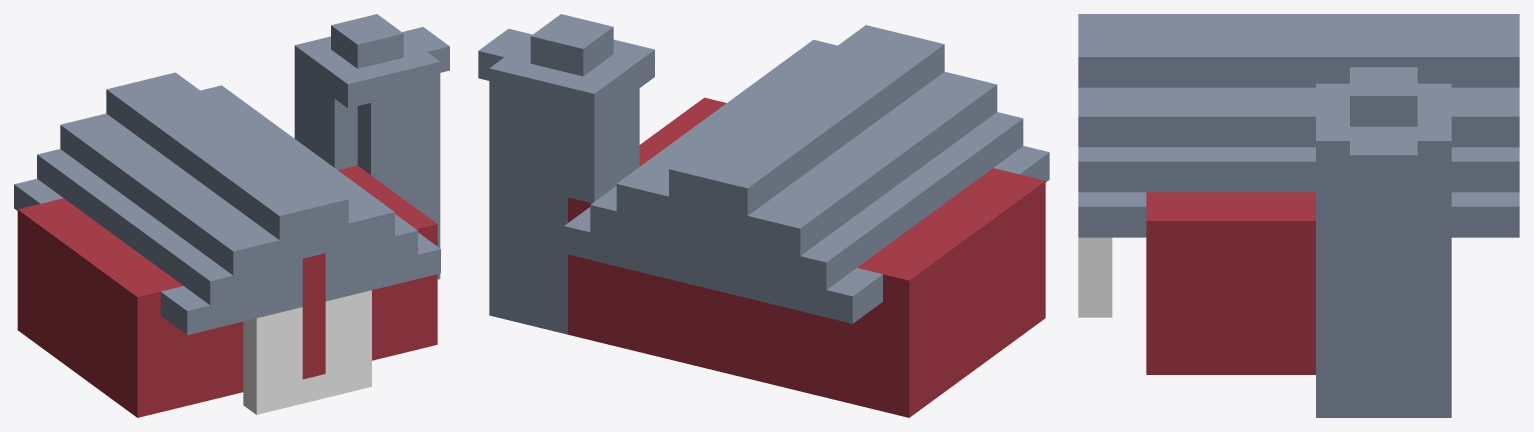
Rendered from barn.glb.
The picture shows the model from 3 angles, left to right: view 1: azimuth 30°, elevation 25°; view 2: azimuth 150°, elevation 25°; view 3: azimuth 270°, elevation 25°; orthographic projection. The views are drawn at different scales.
Parts seen in each view (by area): view 1: barn_metal, barn_barn_red, barn_white; view 2: barn_metal, barn_barn_red; view 3: barn_metal, barn_barn_red, barn_white.
Boxes of the visible parts, box(x1,y1,x2,y2) form: barn_metal: box(14, 14, 449, 335); barn_barn_red: box(17, 165, 437, 417); barn_white: box(243, 290, 371, 414); barn_metal: box(478, 14, 1049, 334); barn_barn_red: box(568, 97, 1045, 417); barn_metal: box(1078, 14, 1519, 417); barn_barn_red: box(1146, 192, 1315, 374); barn_white: box(1078, 237, 1112, 317).
Bounding box in the file's own units: 19.74 × 11.61 × 15.09.
